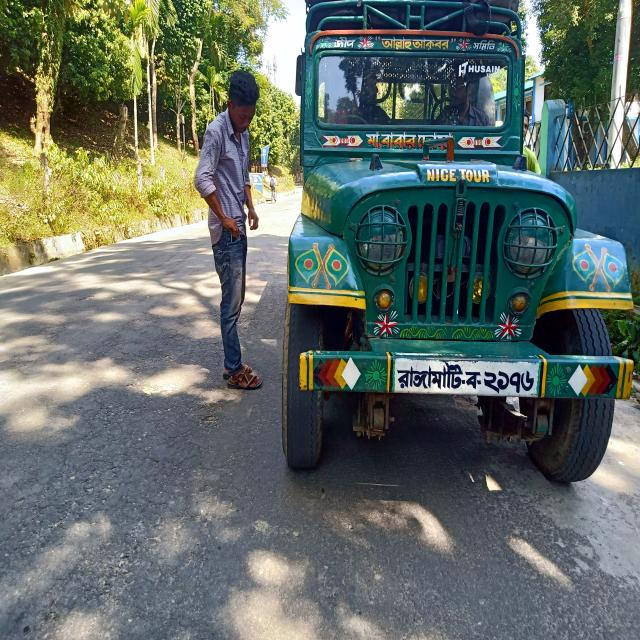pickup-van: (280, 0, 636, 523)
